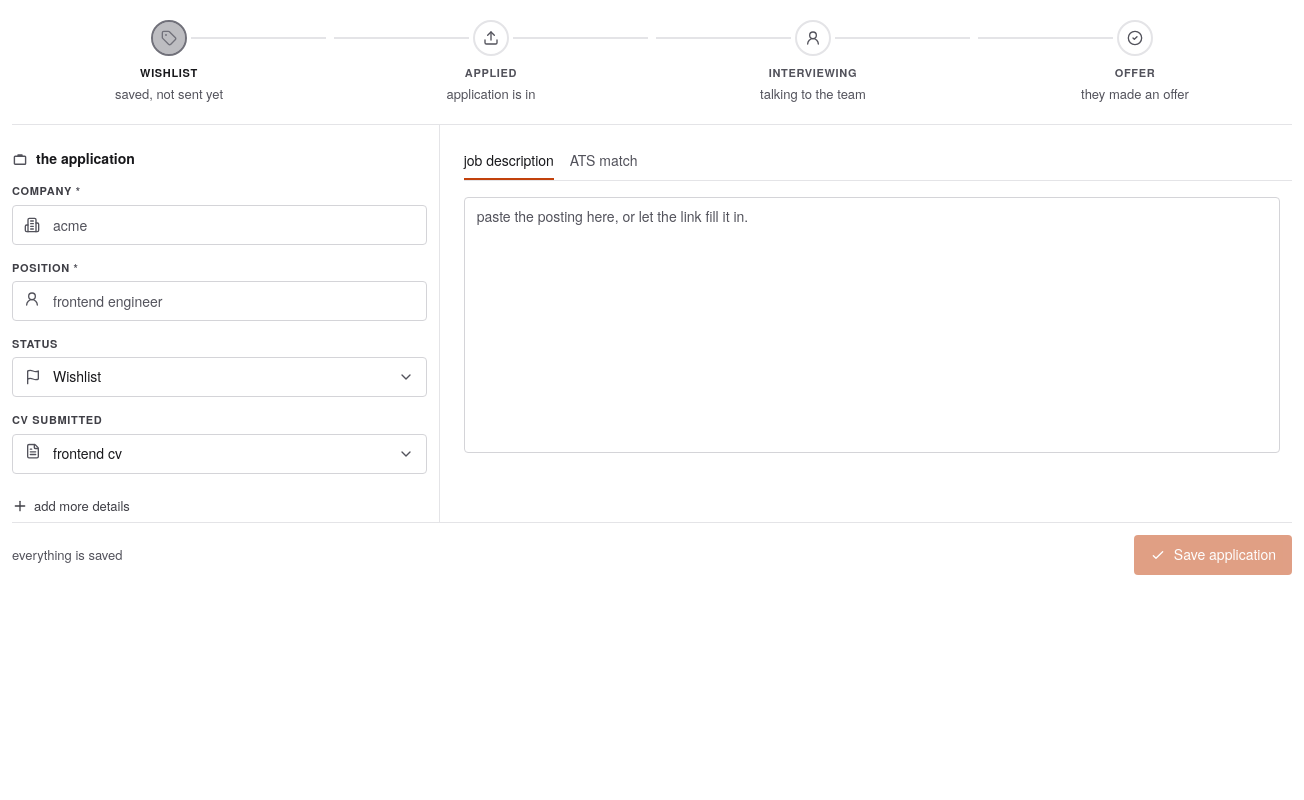
Test: the "CV submitted" field on an application › MAKES THE RECORD SAVABLE, which is what "not functioning" meant
The width and height of the screenshot is (1304, 800).
expect the button "Save application" is disabled: met, box [1134, 535, 1292, 575]
Click the dropdown named "cv submitted": (87, 453) [12, 434, 427, 474]
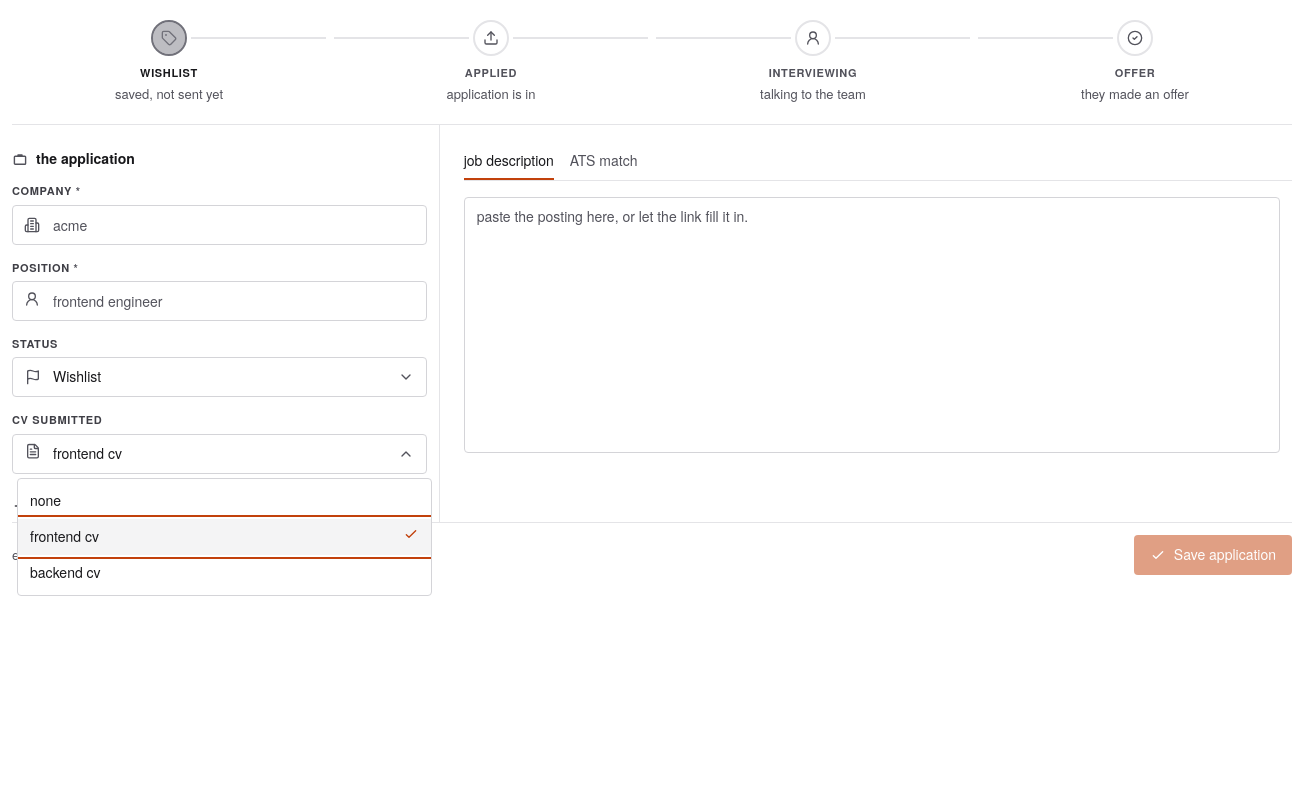
Click the option "backend cv": (65, 572) [30, 562, 101, 582]
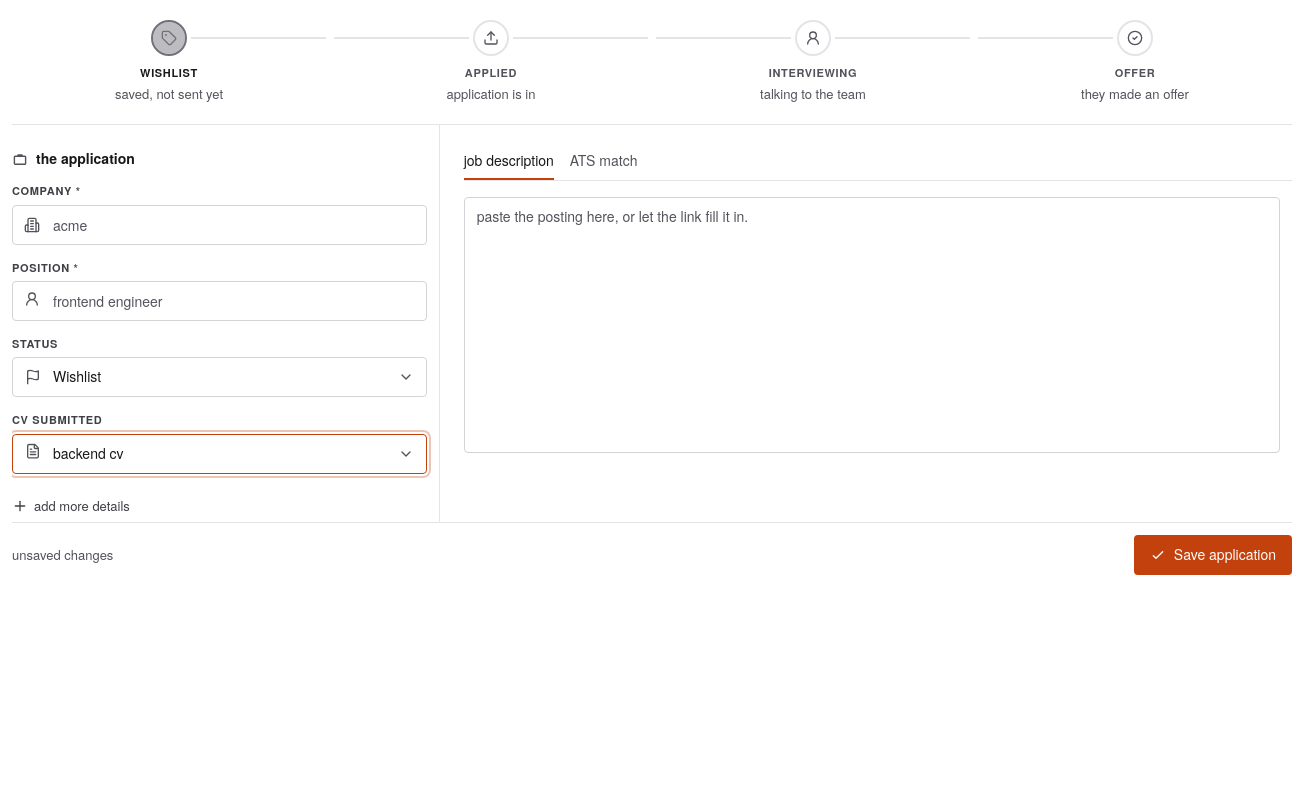
expect the button "Save application" is enabled: met, box [1134, 535, 1292, 575]
expect the text "unsaved changes" is shown: met, box [12, 545, 113, 564]
